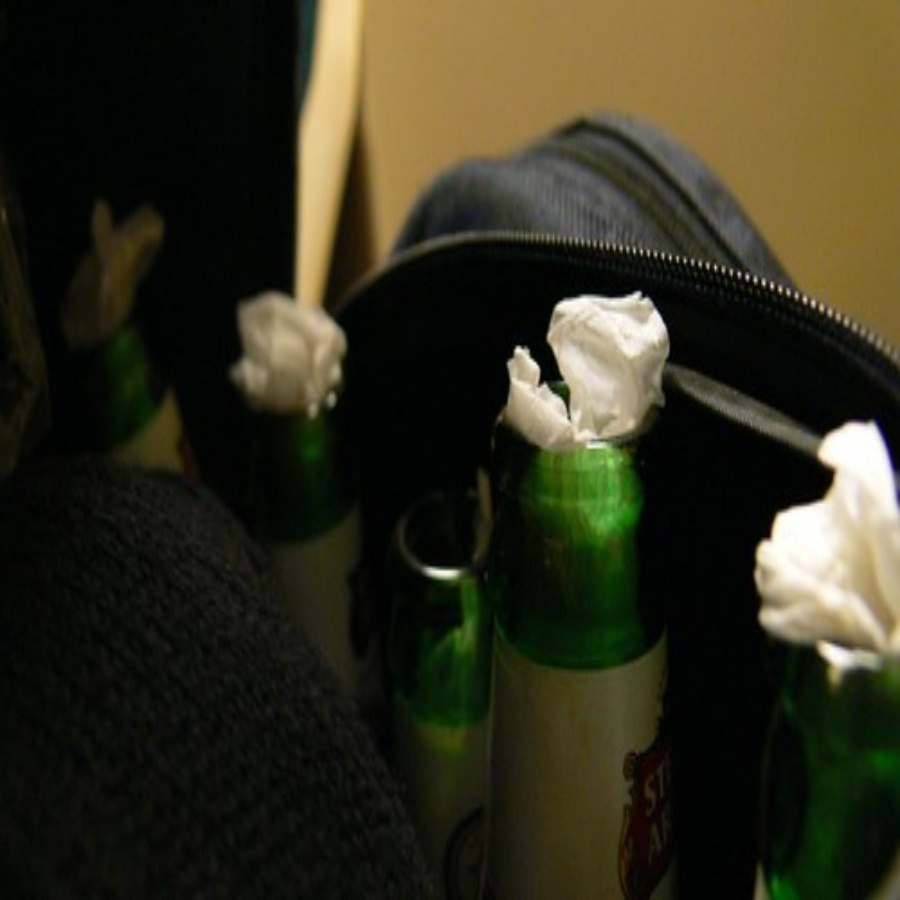beer: (463, 378, 696, 900)
